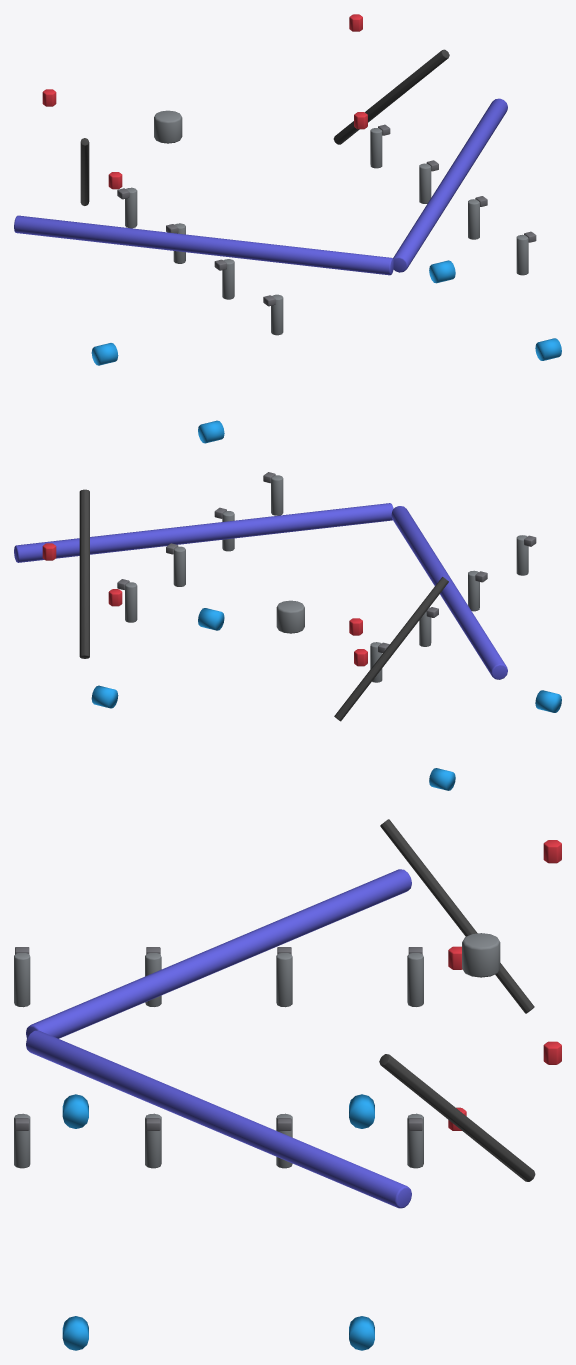
Rendered from engine_v8_fuelsystem.glb.
The picture shows the model from 3 angles, top to bottom: view 1: azimuth 30°, elevation 25°; view 2: azimuth 150°, elevation 25°; view 3: azimuth 270°, elevation 25°; orthographic projection. The views are drawn at different scales.
Visible parts, largest first — view 1: Engine_V8_FuelSystem, GEO_V8Fuel_ANFittings; view 2: Engine_V8_FuelSystem, GEO_V8Fuel_ANFittings; view 3: Engine_V8_FuelSystem, GEO_V8Fuel_ANFittings.
Part boxes in pixels (box(x1,y1,x2,y2)): Engine_V8_FuelSystem: box(14, 14, 536, 335); GEO_V8Fuel_ANFittings: box(91, 260, 561, 443); Engine_V8_FuelSystem: box(14, 472, 536, 721); GEO_V8Fuel_ANFittings: box(91, 608, 561, 790); Engine_V8_FuelSystem: box(14, 819, 561, 1208); GEO_V8Fuel_ANFittings: box(62, 1094, 374, 1350).
Size of the model in its own units: 0.644 by 0.2754 by 0.4597.
